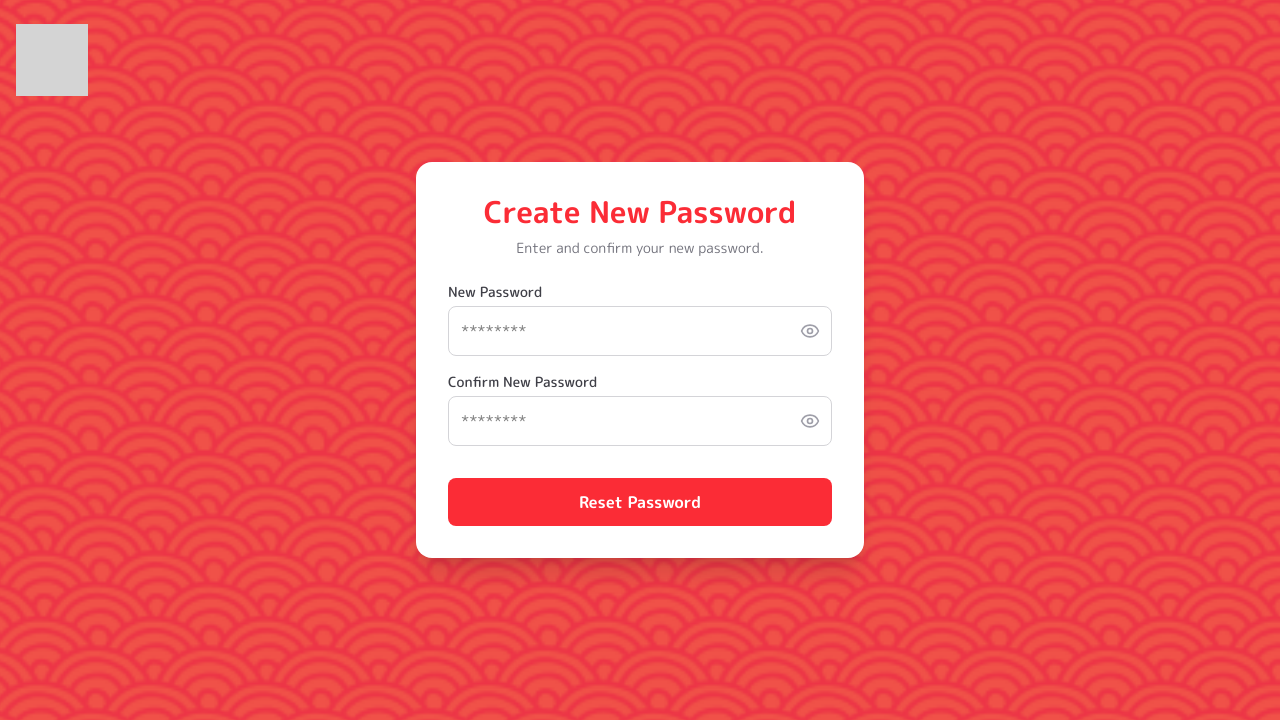
it: ResetPasswordPage › should show validation errors if passwords do not match
Type "password123" into the 1st password field with placeholder "********" at (640, 331), box [448,306,832,356]
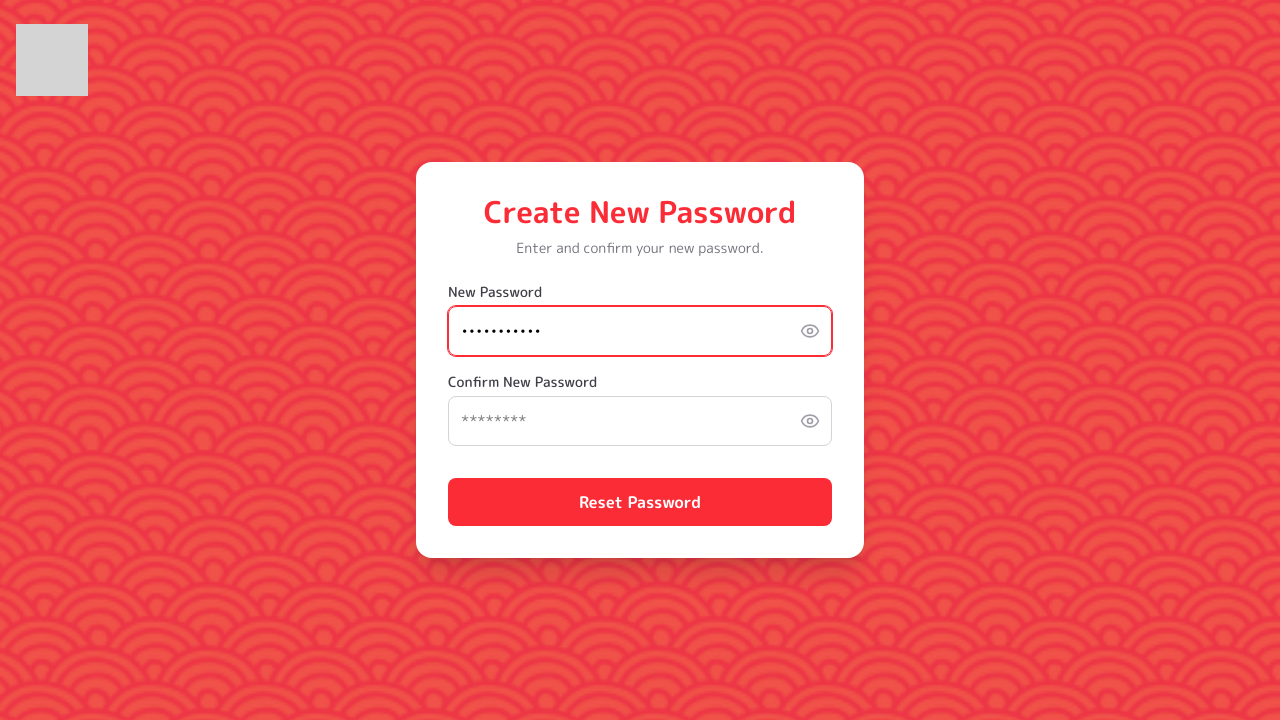
Type "password321" into the password field with placeholder "********" at (640, 421), box [448,396,832,446]
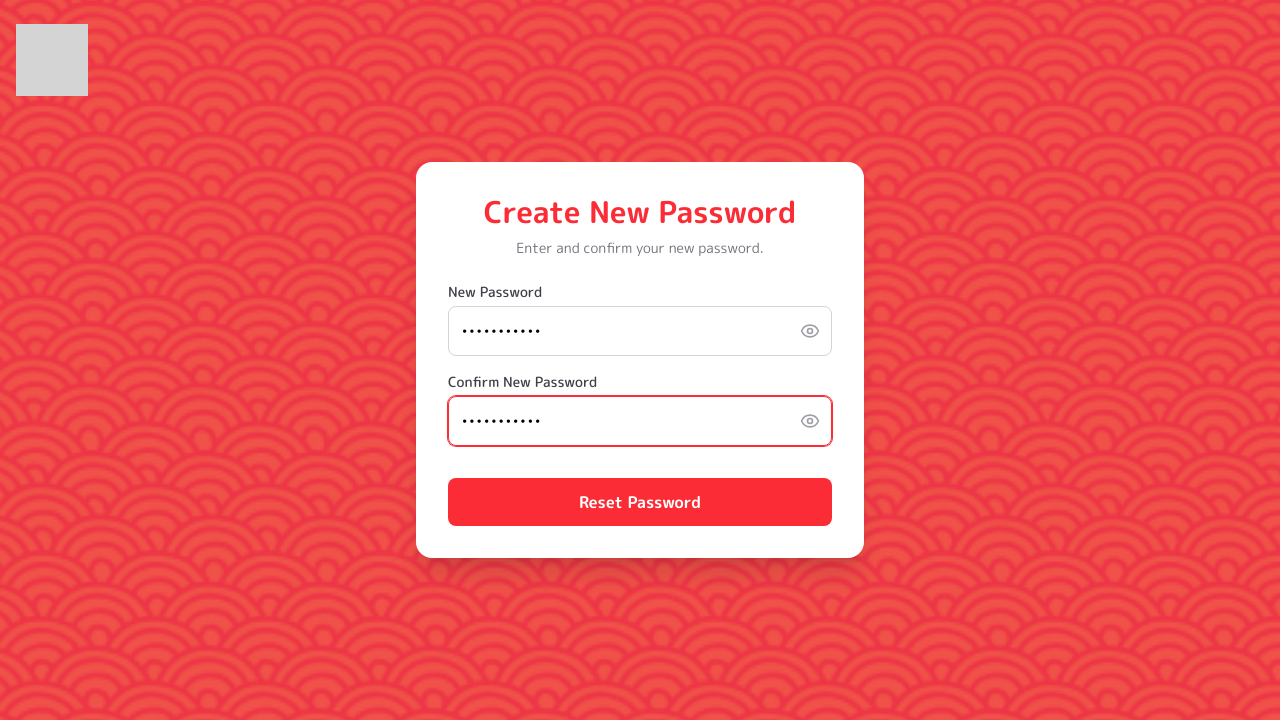
Click the button "Reset Password" at (640, 502), box [448,478,832,526]
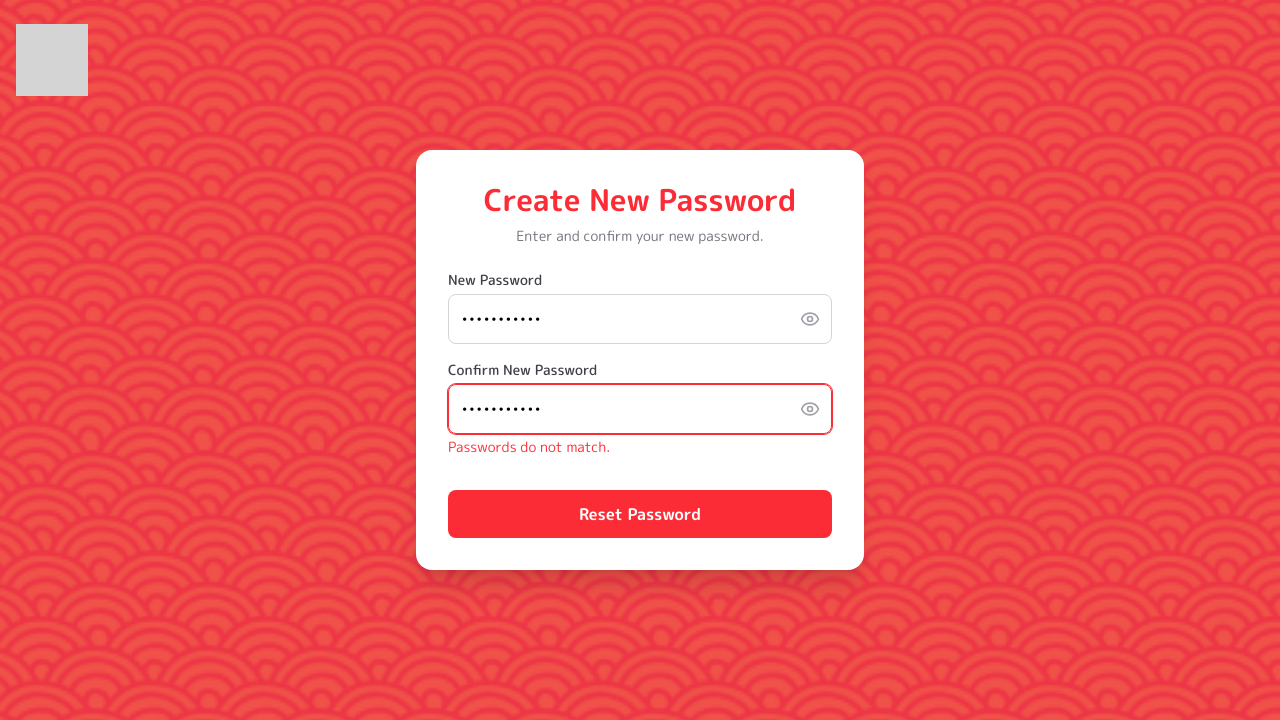
Now the text "Passwords do not match." is shown, box [448,437,610,456]
